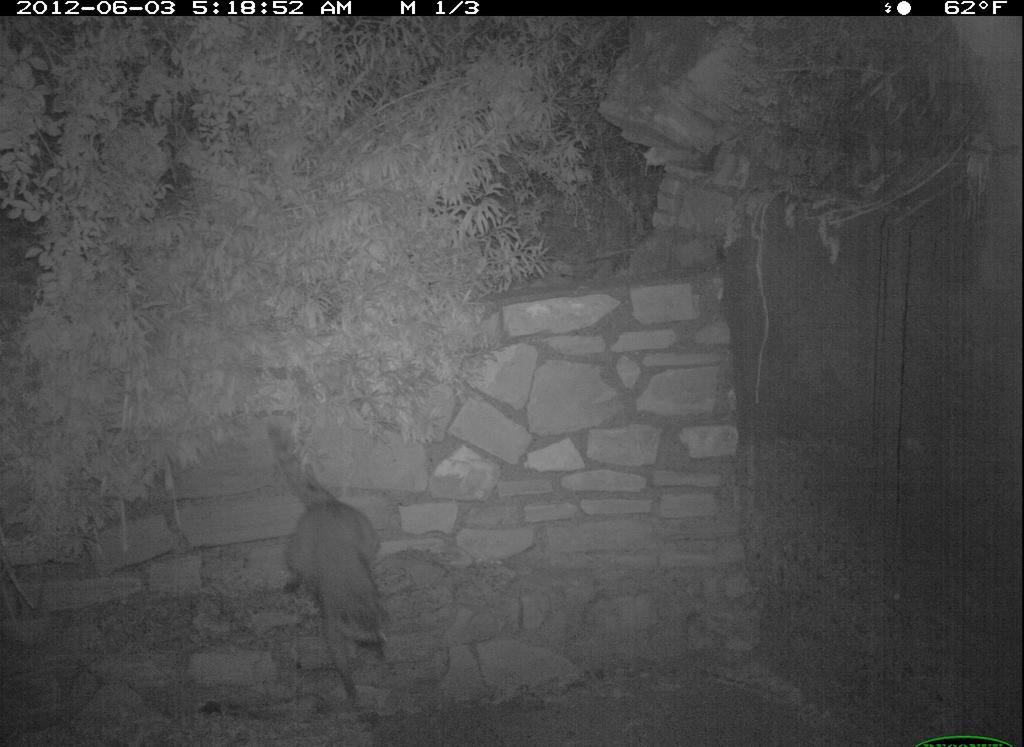raccoon: (262, 408, 411, 703)
